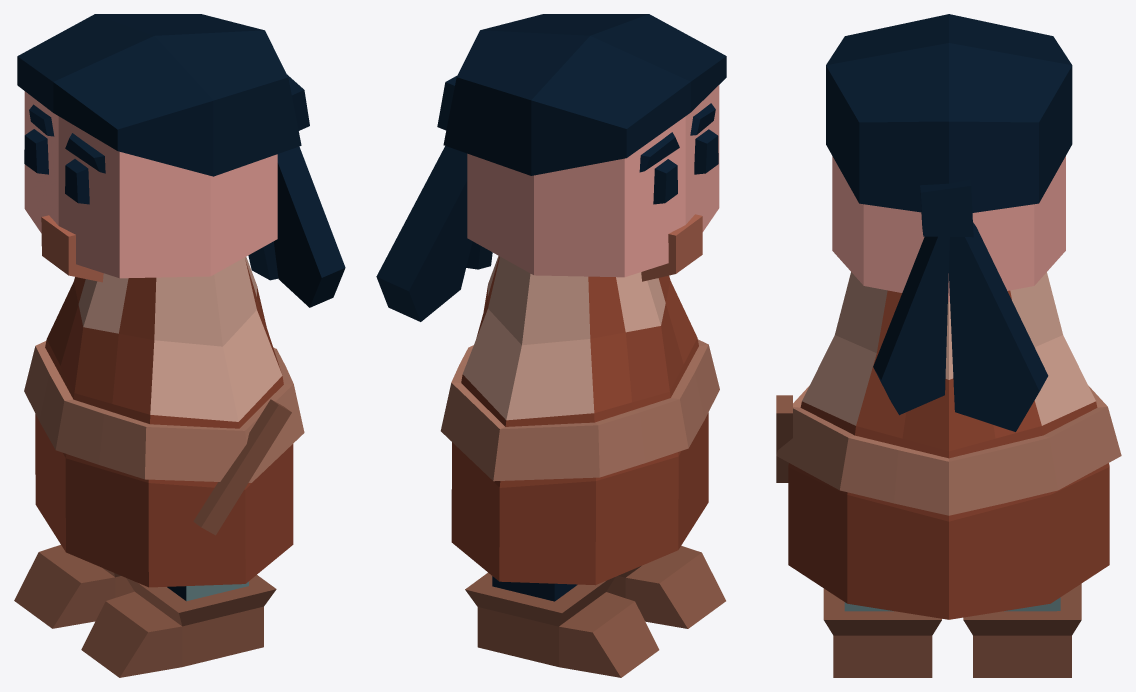
The model's file is SK_Blacksmith.fbx.
3 renders of one model, left to right at view 1: azimuth 30°, elevation 25°; view 2: azimuth 150°, elevation 25°; view 3: azimuth 270°, elevation 25°, orthographic. The views are drawn at different scales.
Parts seen in each view (by area): view 1: SK_Blacksmith; view 2: SK_Blacksmith; view 3: SK_Blacksmith.
Part boxes in pixels (bbox=[...]): SK_Blacksmith: bbox=[14, 14, 345, 677]; SK_Blacksmith: bbox=[376, 14, 726, 677]; SK_Blacksmith: bbox=[776, 14, 1121, 677].
Size of the model in its own units: 65.39 by 133 by 72.73.
